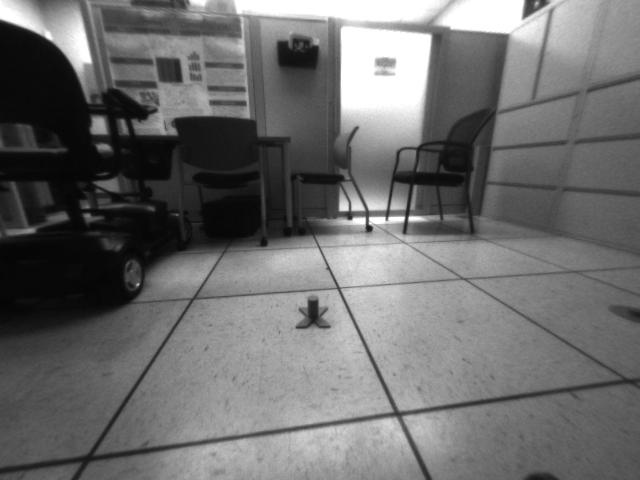X: (294, 293, 331, 330)
